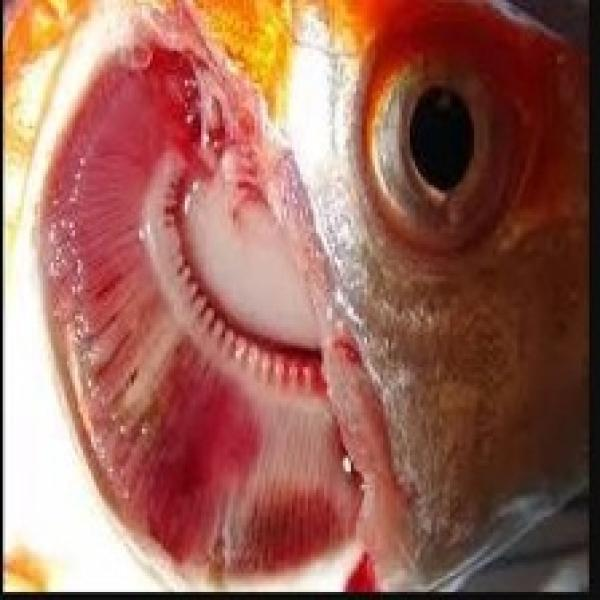bacterial_gill: (127, 130, 329, 417)
